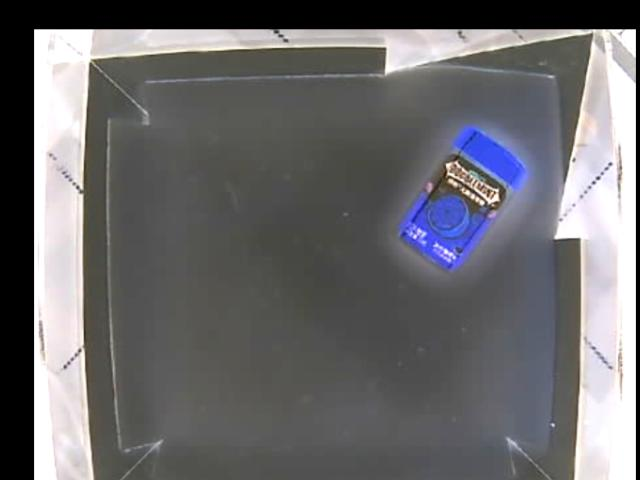Bottle: (391, 127, 528, 277)
